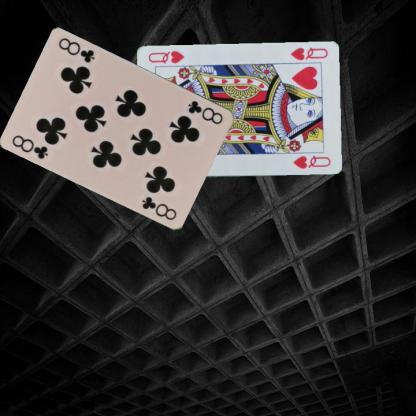8c: (9, 132, 50, 160), (185, 98, 225, 125)
Qh: (288, 44, 328, 62)
